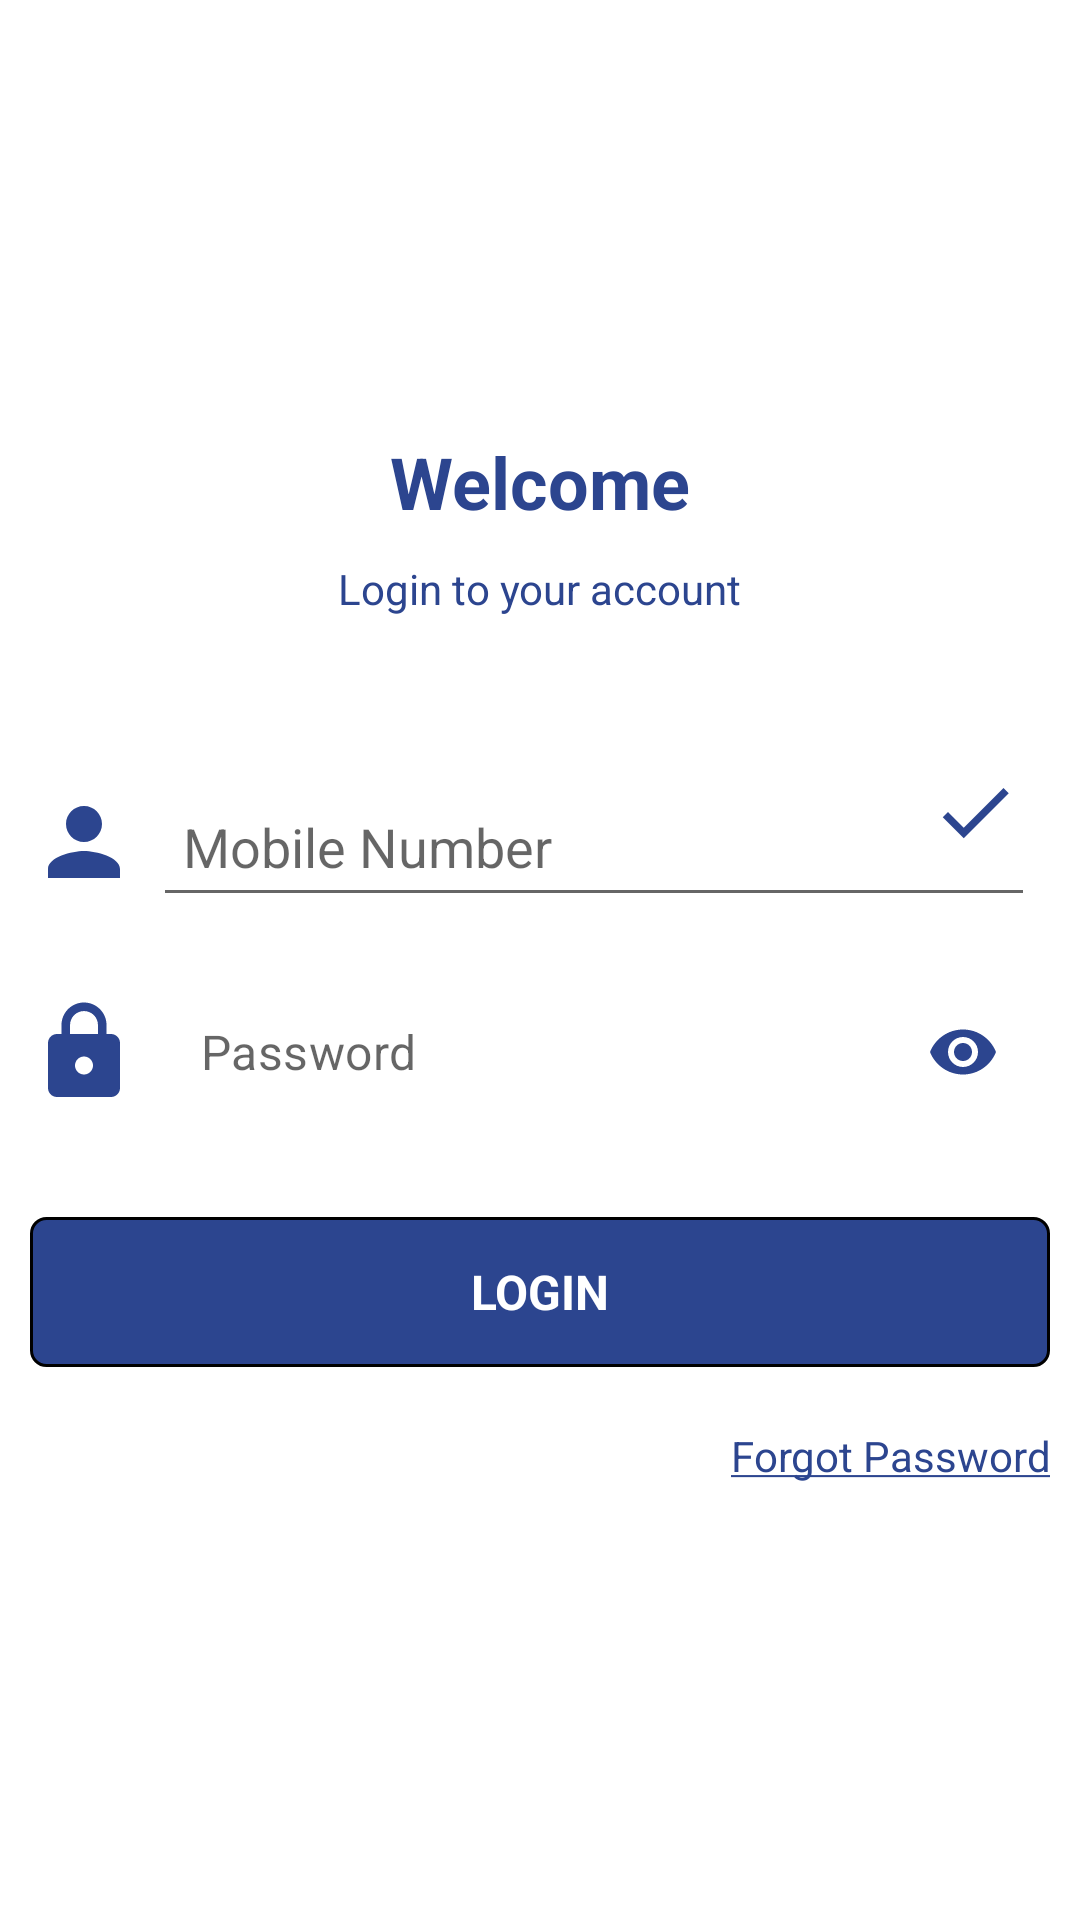

Screen size 1080w x 1920h. Icon name, then its box in pixels as (x1, y1, x2, y2):
login person: (48, 806, 120, 878)
login tick: (943, 788, 1009, 838)
